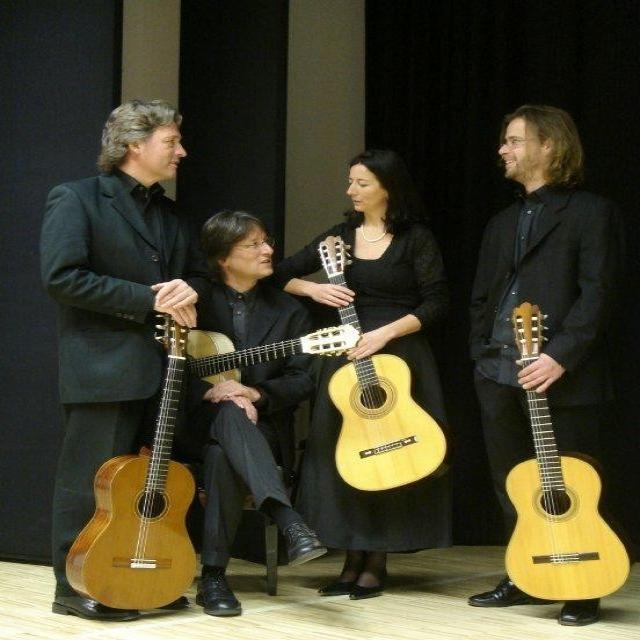guitar: (64, 297, 204, 608), (501, 298, 632, 604), (316, 235, 453, 494), (175, 322, 368, 392)
